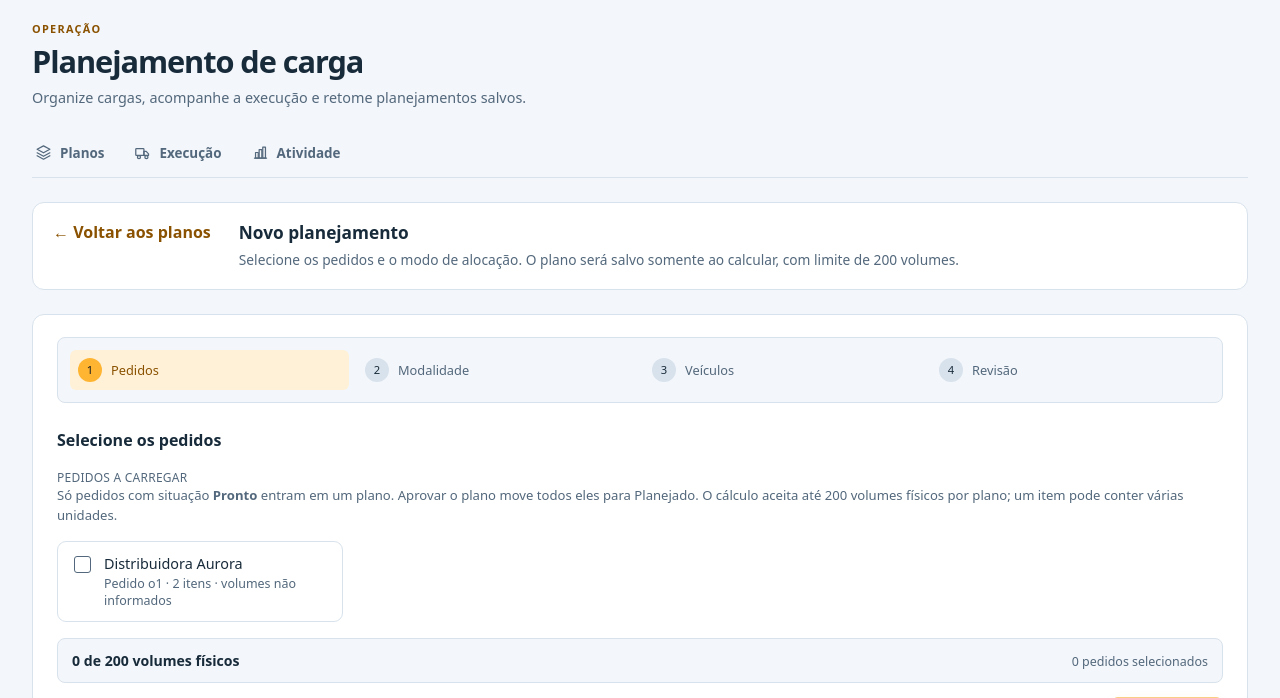
it: PlanningPage › explica os bloqueios de pedido e veículo junto das ações
The image size is (1280, 698).
Click the checkbox: (82, 565) [74,556,91,573]
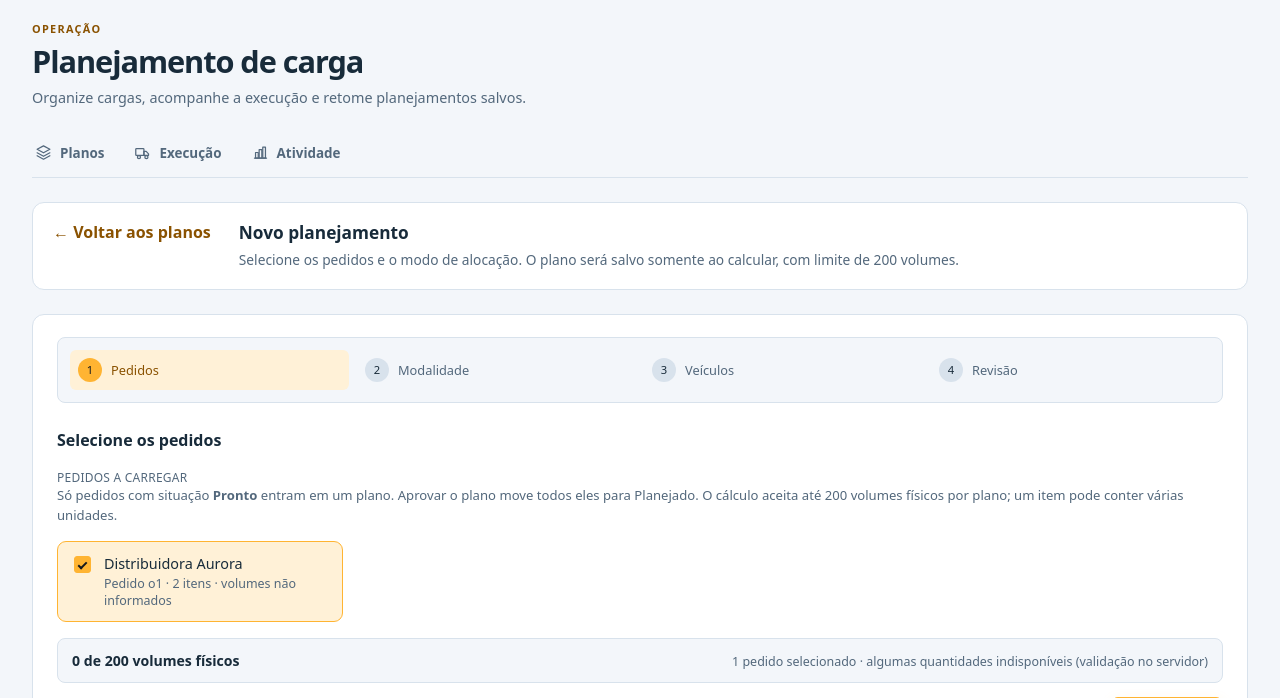
Click the button "4 Revisão": (995, 370) [931,350,1210,390]
(page scrolled)
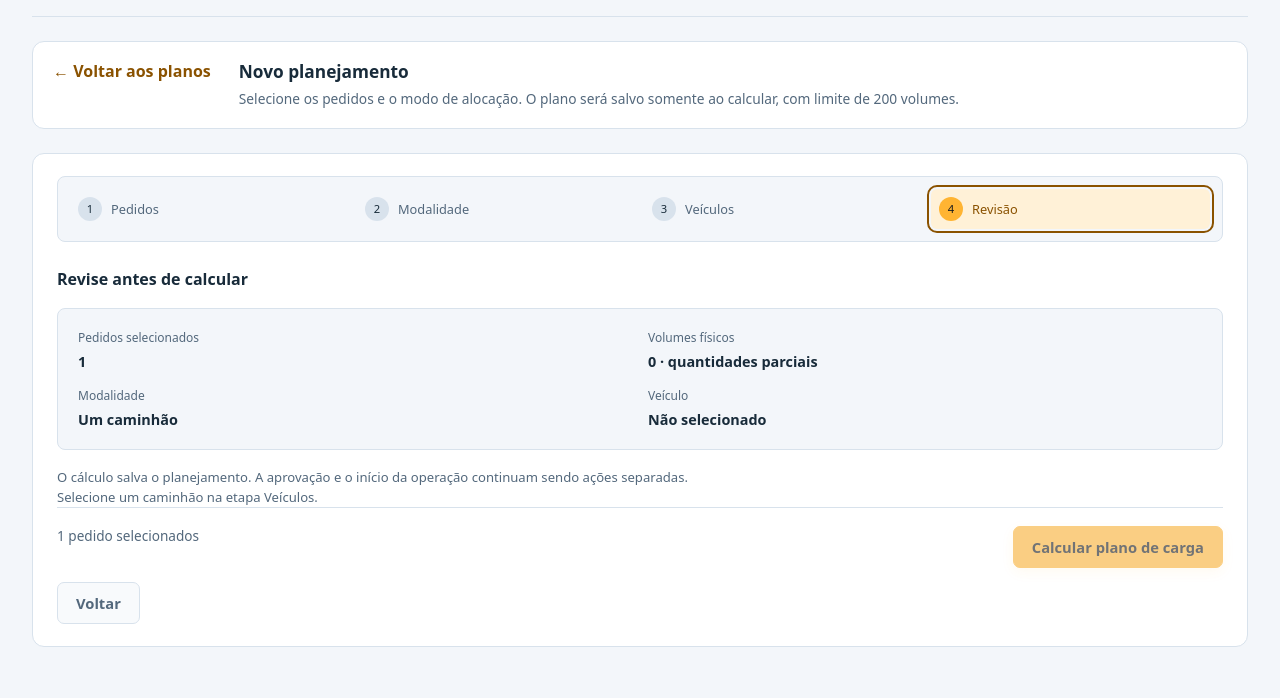
expect the button "Calcular plano de carga" is disabled: met, box [1013,526,1223,568]
